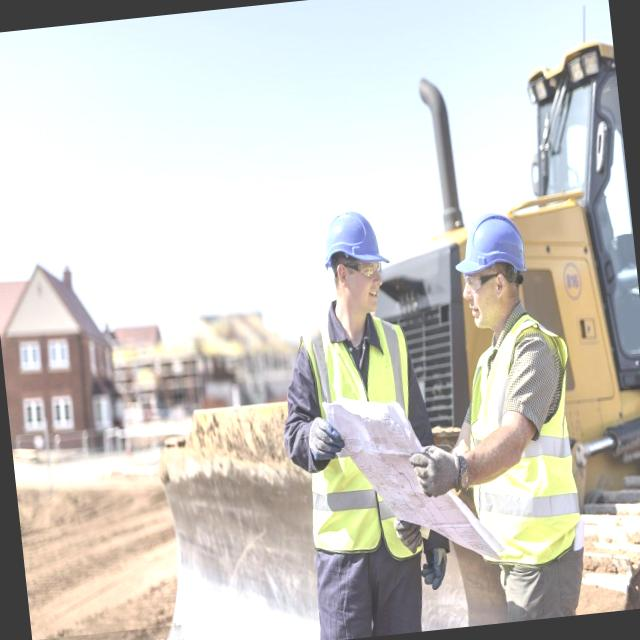goggles: (332, 250, 394, 292), (456, 264, 507, 302)
helmet: (448, 208, 535, 297), (308, 197, 390, 283)
vest: (276, 308, 446, 593), (446, 313, 606, 583)
